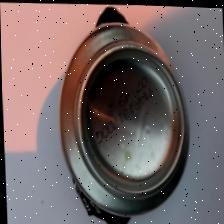metal: (57, 2, 192, 224)
